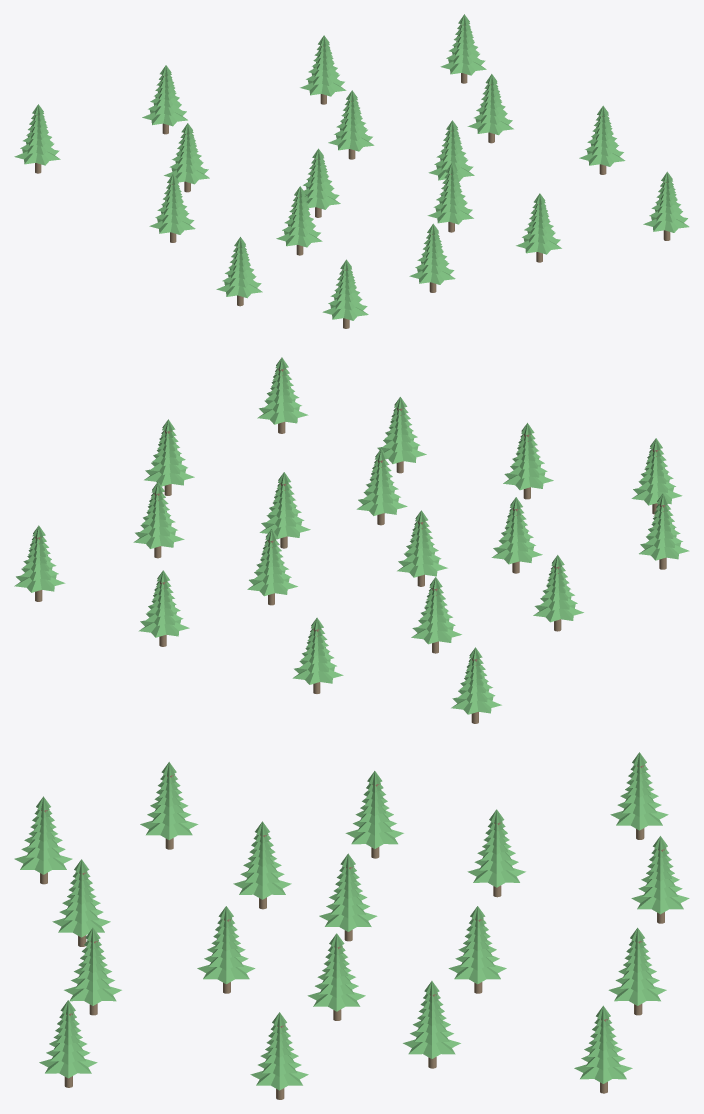
File: Treegrove.glb
3 views of the same model, one above another, from view 1: azimuth 30°, elevation 25°; view 2: azimuth 150°, elevation 25°; view 3: azimuth 270°, elevation 25° (orthographic). The views are drawn at different scales.
Parts seen in each view (by area): view 1: Mesh_Mesh_head_geo.001_lambert2SG.001; view 2: Mesh_Mesh_head_geo.001_lambert2SG.001; view 3: Mesh_Mesh_head_geo.001_lambert2SG.001.
Part boxes in pixels (box(x1,y1,x2,y2)): Mesh_Mesh_head_geo.001_lambert2SG.001: box(14, 14, 689, 328); Mesh_Mesh_head_geo.001_lambert2SG.001: box(14, 357, 689, 723); Mesh_Mesh_head_geo.001_lambert2SG.001: box(14, 752, 689, 1099).
Bounding box in the file's own units: 0.177 × 0.025 × 0.1775.
